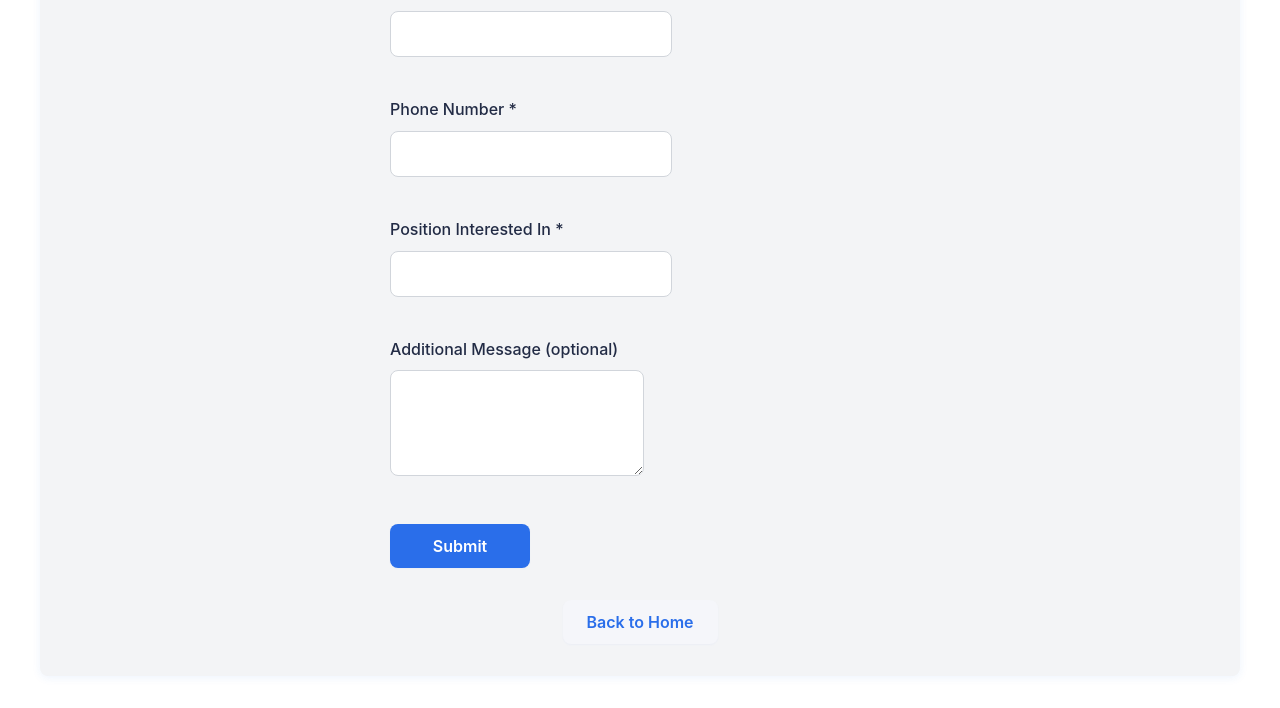
Test: InterestForm › shows validation errors for empty required fields
(page scrolled)
Click the button "Submit": (460, 546) [390,524,530,568]
(page scrolled)
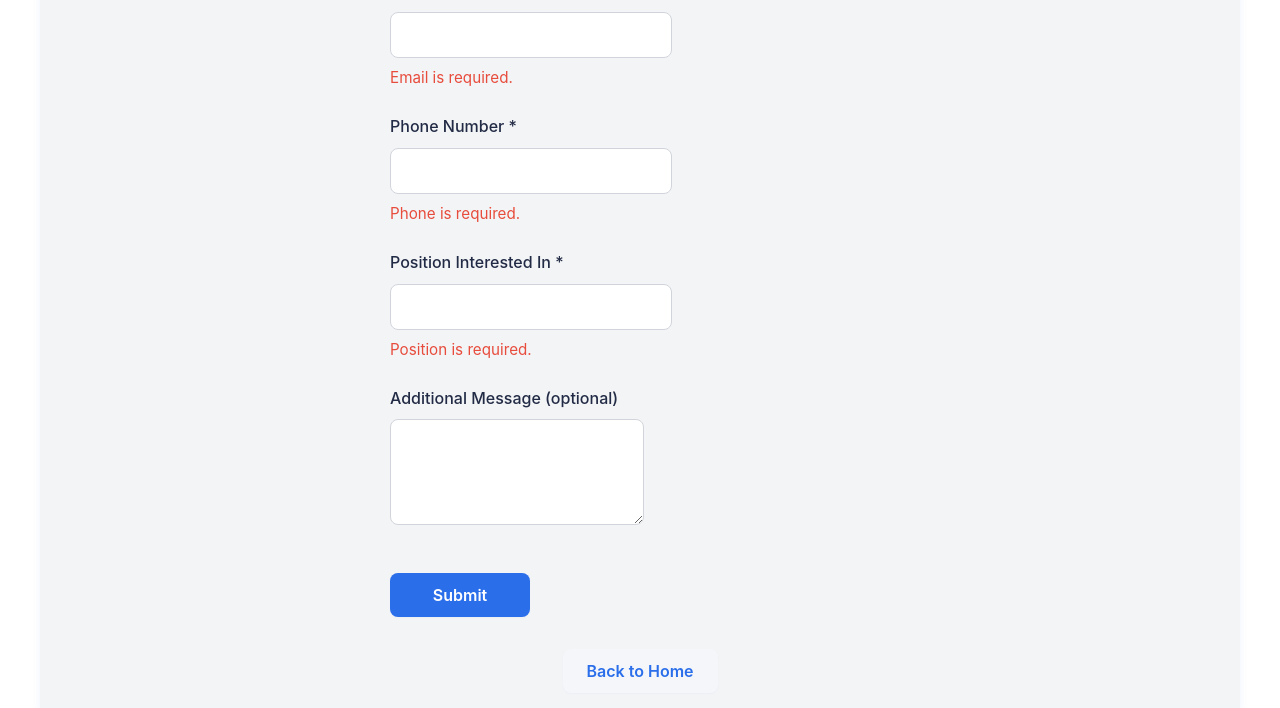
expect the text "Email is required." is shown: met, box [390,68,513,87]
expect the text "Phone is required." is shown: met, box [390,204,520,223]
expect the text "Position is required." is shown: met, box [390,340,532,358]
